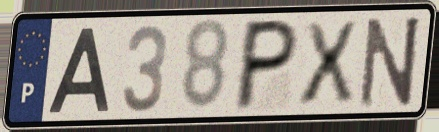3: (121, 22, 169, 114)
8: (177, 16, 236, 116)
A: (45, 24, 112, 115)
N: (357, 13, 424, 111)
P: (229, 17, 303, 114)
X: (296, 18, 360, 109)
